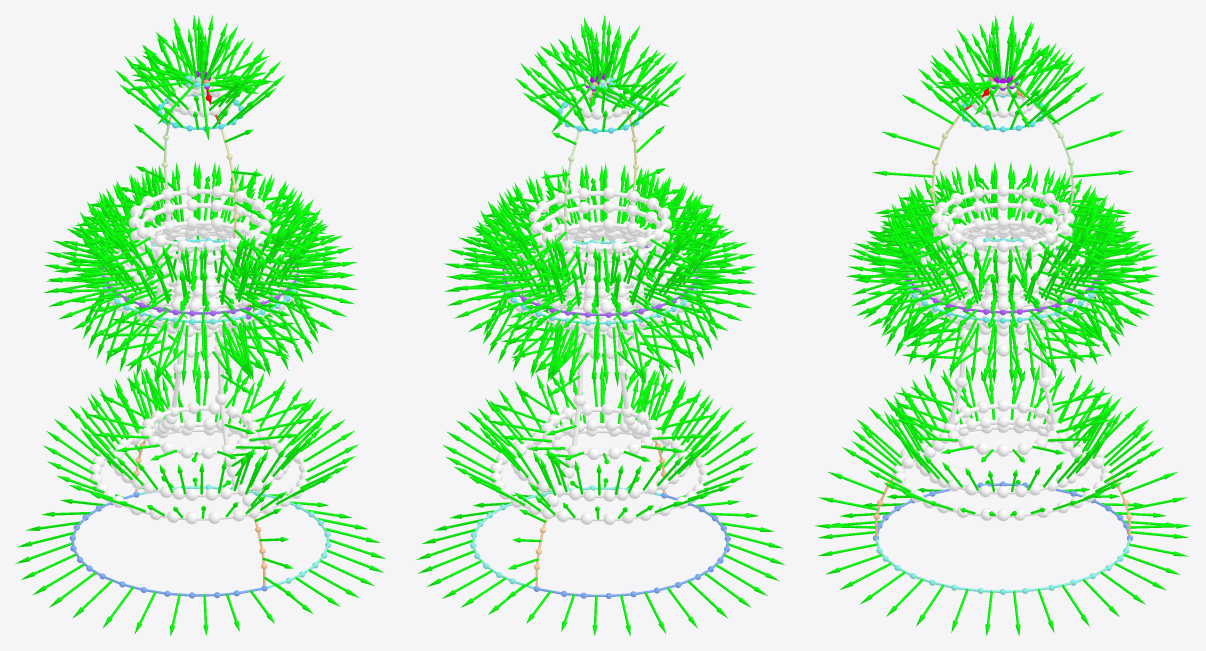
The model's file is onshape_bishop.gltf.
The picture shows the model from 3 angles, left to right: view 1: azimuth 30°, elevation 25°; view 2: azimuth 150°, elevation 25°; view 3: azimuth 270°, elevation 25°; orthographic projection.
Bounding box in the file's own units: 0.5898 × 0.9537 × 0.6069.
